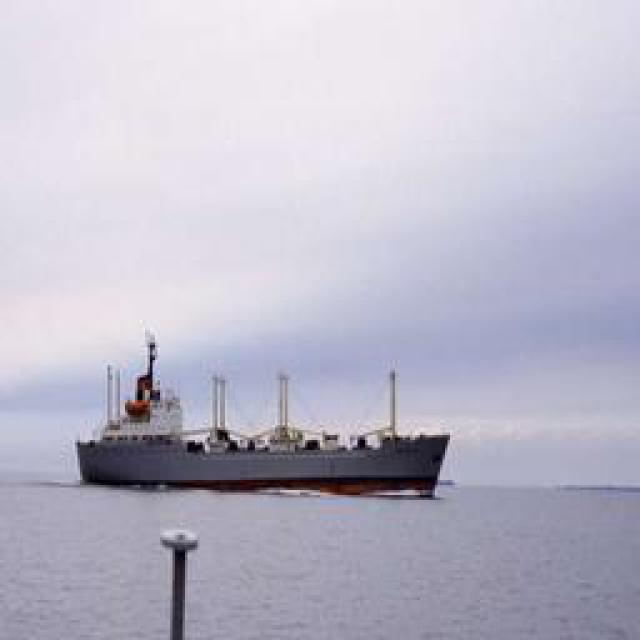Ship: (81, 341, 459, 494)
